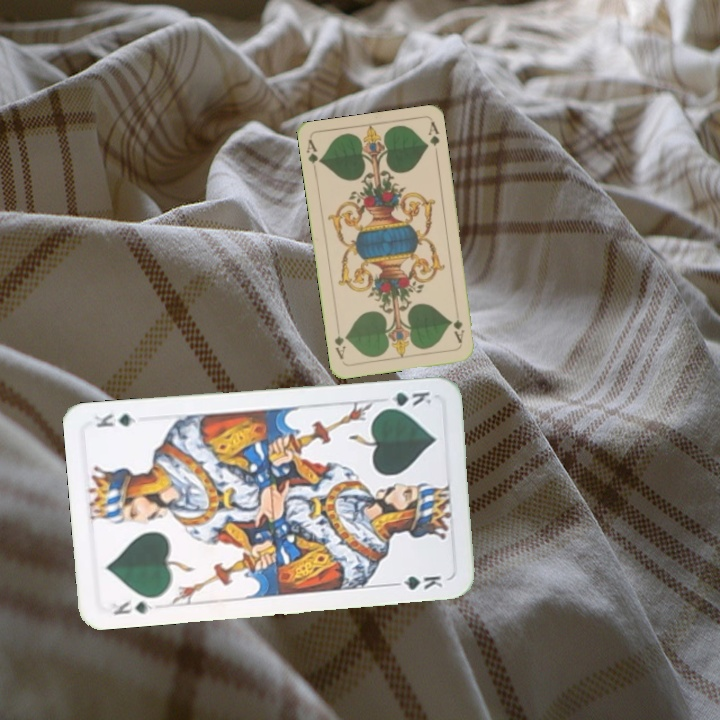GA: (449, 306, 467, 345), (302, 136, 324, 166)
GK: (377, 387, 434, 412), (109, 595, 156, 617)
